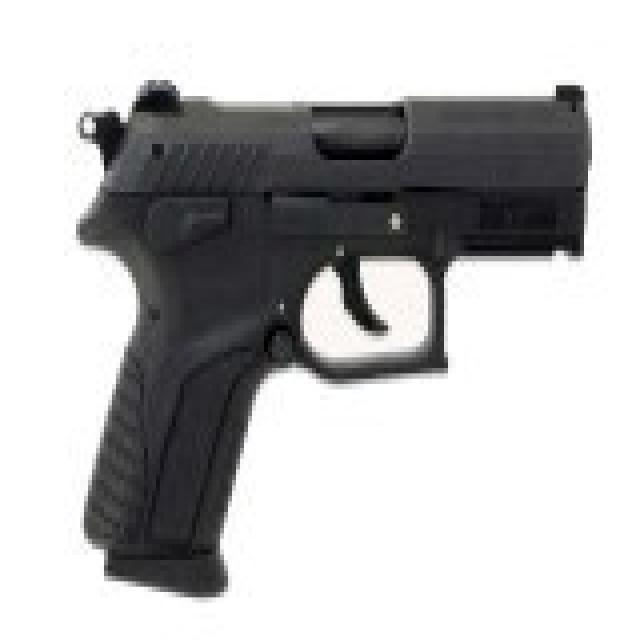Gun: (56, 52, 609, 591)
